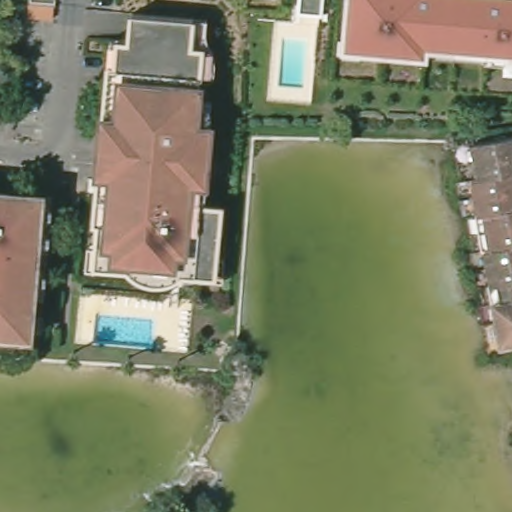pool: (86, 310, 158, 351), (272, 33, 314, 94)
